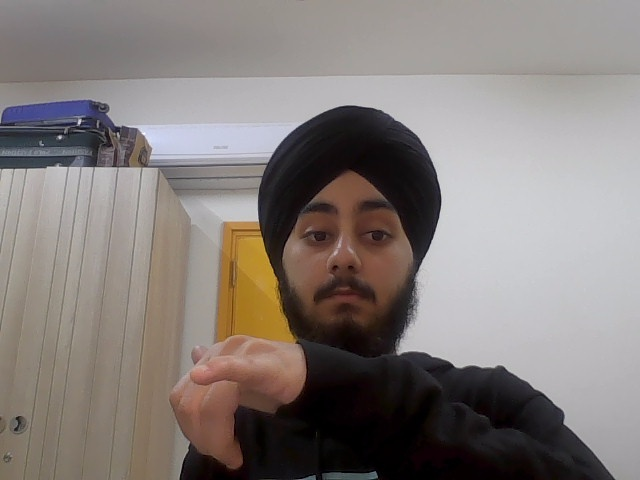Same: (166, 327, 309, 479)
